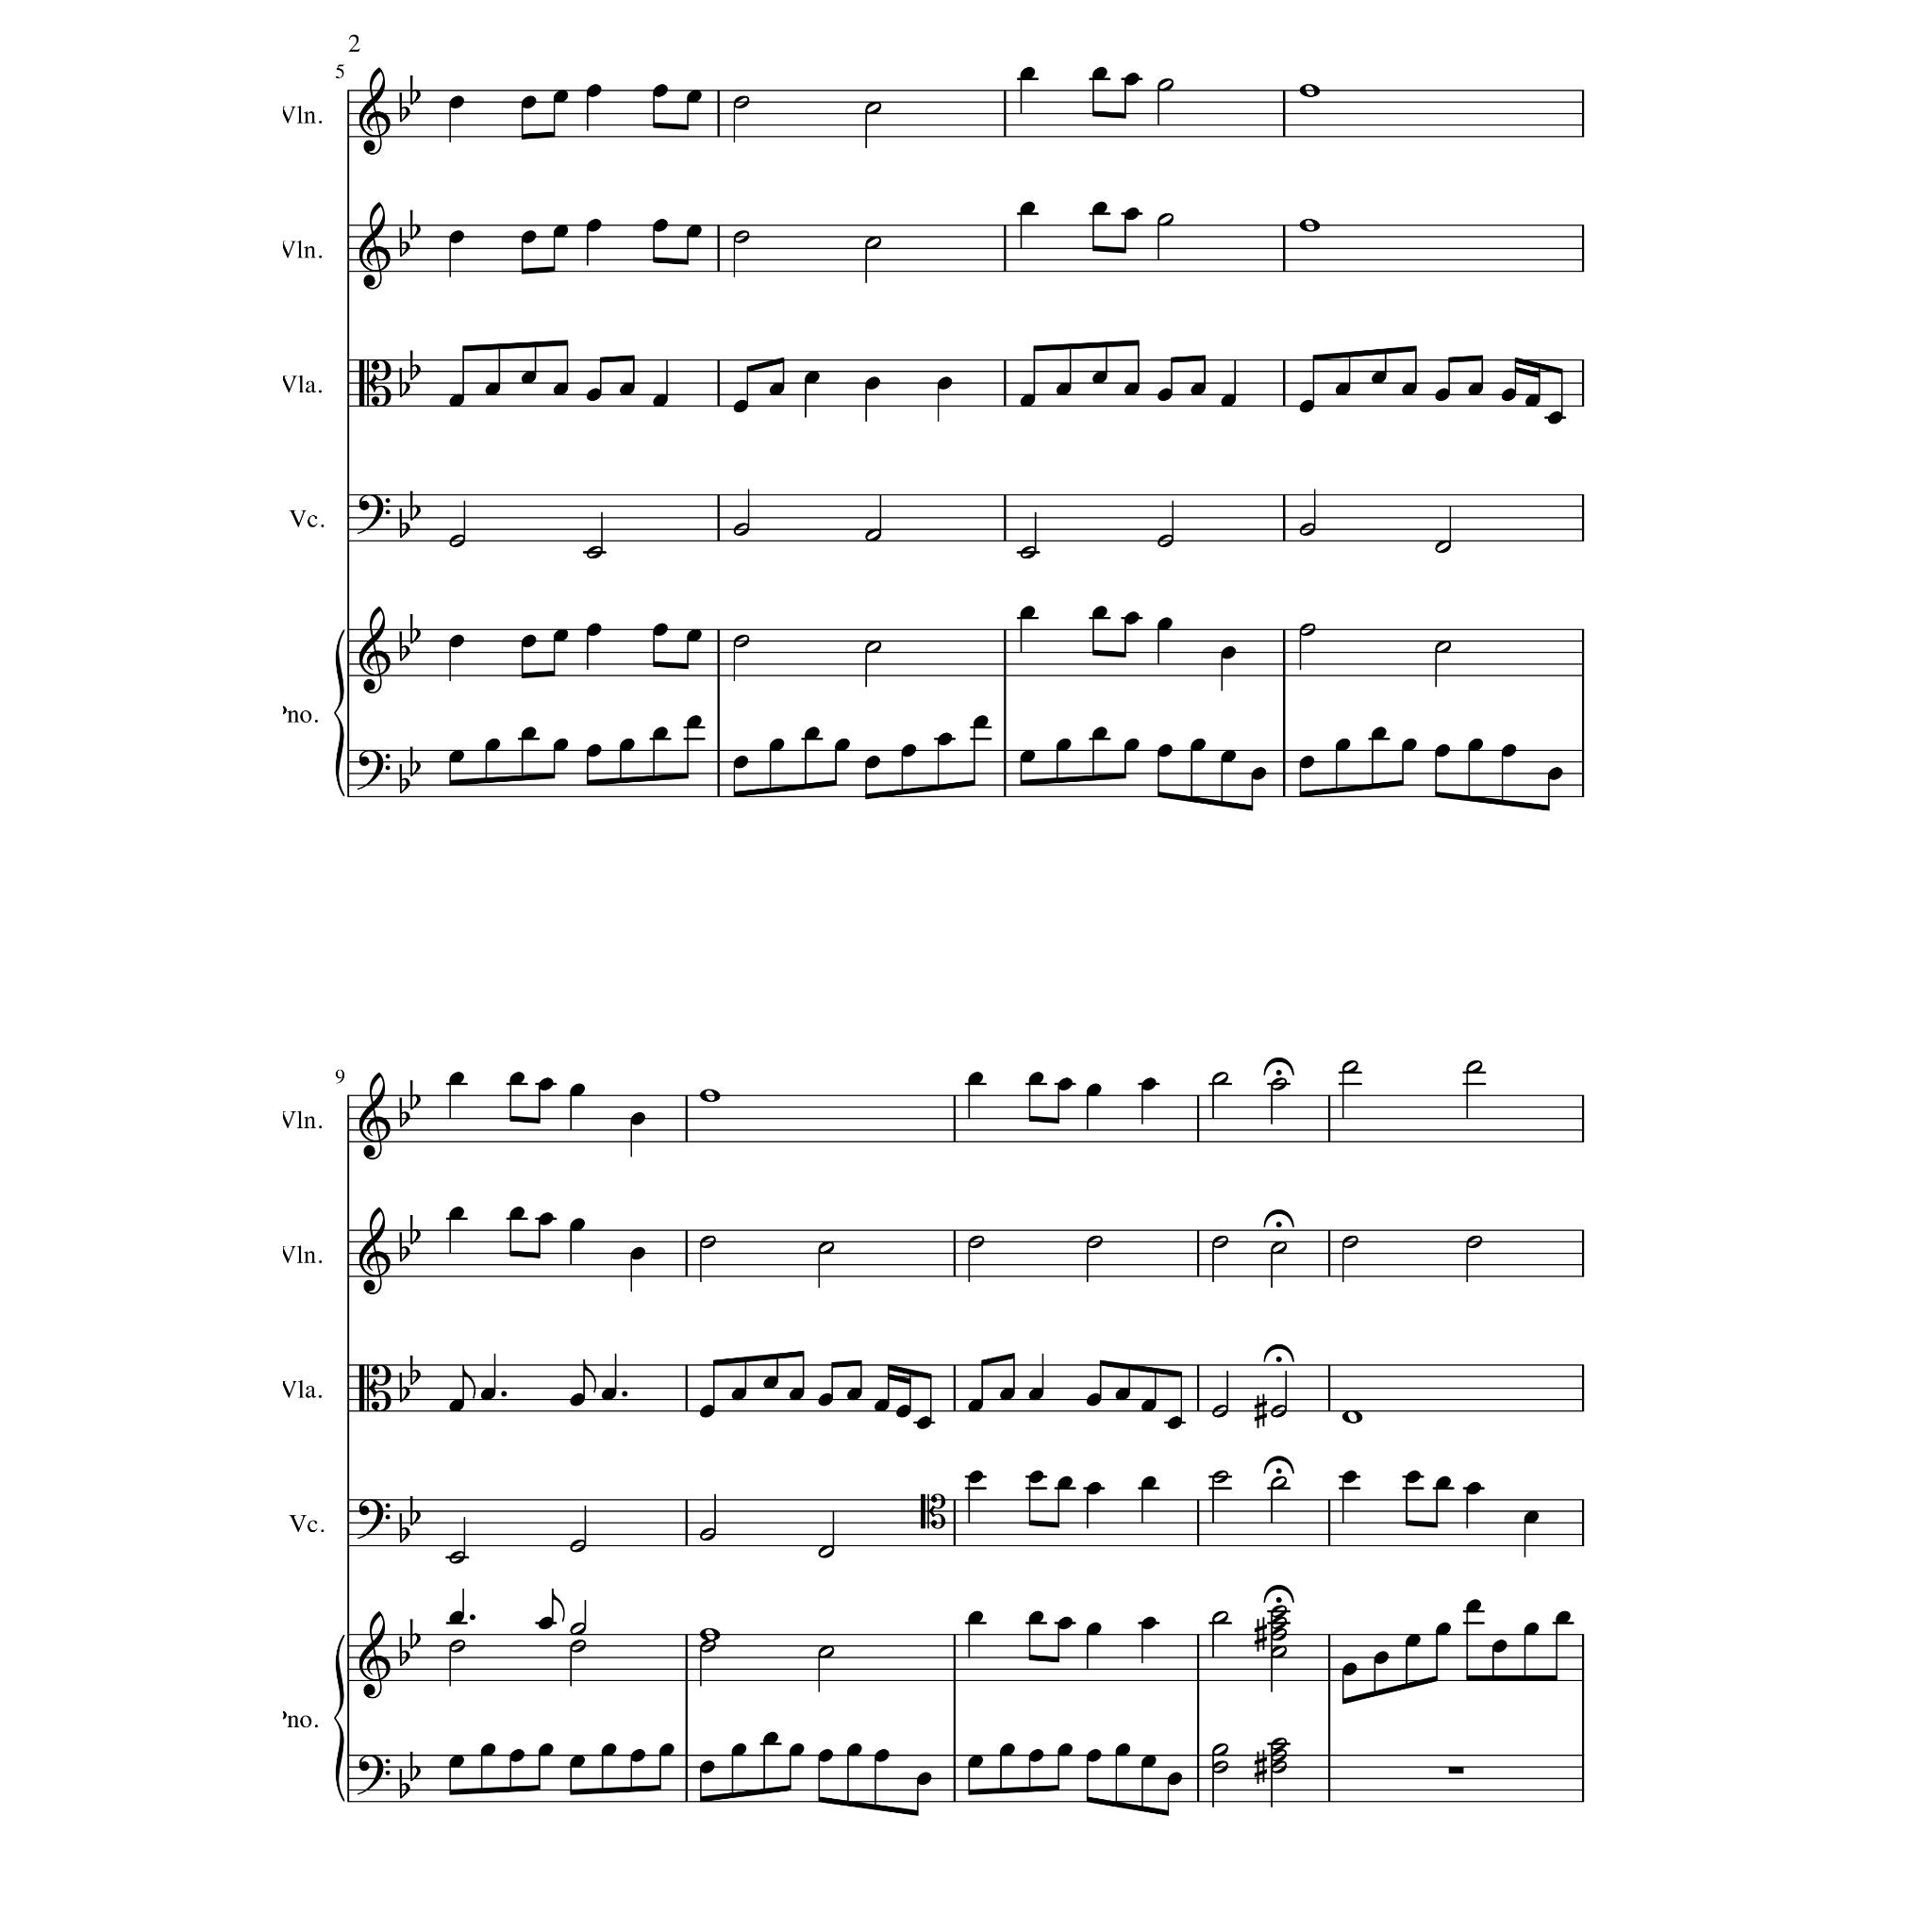brace: (333, 630, 345, 798), (333, 1635, 345, 1801)
fClef: (357, 494, 391, 534), (357, 750, 391, 791), (357, 1499, 391, 1539), (357, 1755, 391, 1796)
flag8thUp: (462, 1366, 476, 1399), (584, 1359, 596, 1394), (552, 1589, 564, 1622)
gClef: (359, 605, 391, 694), (359, 67, 391, 156), (359, 202, 391, 290), (359, 1610, 391, 1698), (359, 1072, 391, 1161), (359, 1207, 391, 1295)
noteheadBlack: (971, 715, 989, 729), (1056, 1476, 1074, 1490), (1056, 1743, 1074, 1757), (1085, 1392, 1102, 1407), (787, 1387, 805, 1401), (787, 1743, 805, 1757), (1157, 743, 1173, 757), (1157, 617, 1173, 632), (1157, 387, 1173, 402), (1251, 766, 1267, 780), (1221, 646, 1237, 660), (1054, 382, 1070, 396), (1123, 73, 1139, 87), (1123, 207, 1139, 221), (1123, 382, 1139, 396), (1123, 738, 1139, 752), (1092, 202, 1108, 216), (1054, 738, 1070, 752), (1546, 410, 1562, 425), (1546, 766, 1562, 780), (1467, 382, 1483, 396), (1467, 738, 1483, 752), (1500, 387, 1516, 402), (1500, 743, 1516, 757), (1299, 755, 1315, 770), (1401, 382, 1417, 396), (1401, 738, 1417, 752), (1435, 387, 1451, 402), (1435, 743, 1451, 757), (1334, 382, 1350, 396), (1334, 738, 1350, 752), (1299, 400, 1315, 414), (586, 83, 602, 97), (586, 387, 602, 402), (552, 90, 568, 104), (552, 225, 568, 239), (552, 382, 568, 396), (552, 738, 568, 752), (619, 382, 635, 396), (619, 738, 635, 752), (653, 83, 669, 97), (586, 623, 602, 637), (586, 743, 602, 757), (449, 96, 465, 110), (449, 230, 465, 244), (485, 382, 501, 396), (485, 738, 501, 752), (520, 96, 536, 110), (520, 230, 536, 244), (653, 623, 669, 637), (835, 738, 851, 752), (865, 377, 881, 391), (865, 755, 881, 770), (768, 382, 784, 396), (768, 738, 784, 752), (936, 377, 952, 391), (936, 732, 952, 747), (1019, 202, 1035, 216), (901, 743, 916, 757), (732, 400, 748, 414), (732, 755, 748, 770), (686, 90, 702, 104), (686, 225, 702, 239), (686, 715, 702, 729), (1166, 1771, 1182, 1785), (1166, 1415, 1182, 1430), (1141, 1476, 1157, 1490), (1028, 1610, 1044, 1624), (1028, 1387, 1044, 1401), (1000, 1743, 1016, 1757), (1000, 1387, 1016, 1401), (1115, 1387, 1131, 1401), (1115, 1743, 1131, 1757), (1491, 1638, 1507, 1652), (1435, 1476, 1451, 1490), (1555, 1610, 1571, 1624), (1373, 1651, 1389, 1665), (570, 1217, 586, 1231), (570, 1392, 586, 1407), (538, 1212, 554, 1226), (538, 1743, 554, 1757), (658, 1743, 674, 1757), (600, 1387, 616, 1401), (600, 1743, 616, 1757), (449, 1610, 465, 1624), (479, 1387, 495, 1401), (479, 1743, 495, 1757), (916, 1415, 932, 1430), (916, 1771, 932, 1785), (846, 1387, 862, 1401), (846, 1743, 862, 1757), (968, 1610, 984, 1624), (731, 1387, 747, 1401), (763, 1375, 778, 1389), (817, 1392, 833, 1407), (731, 1743, 747, 1757), (1056, 1077, 1074, 1090), (1056, 1617, 1074, 1629), (1085, 1085, 1102, 1097), (1085, 1483, 1102, 1495), (1085, 1622, 1102, 1635), (1085, 1750, 1102, 1762), (1341, 1470, 1359, 1483), (1341, 1663, 1359, 1675), (1191, 382, 1205, 396), (1191, 738, 1205, 752), (1221, 395, 1237, 407), (1221, 750, 1237, 763), (1123, 612, 1139, 625), (1092, 67, 1108, 80), (1092, 372, 1108, 384), (1092, 607, 1108, 619), (1092, 727, 1108, 740), (1525, 395, 1541, 407), (1371, 372, 1387, 384), (1371, 727, 1387, 740), (586, 219, 602, 232), (552, 630, 568, 642), (653, 219, 669, 232), (653, 395, 669, 407), (653, 727, 669, 740), (449, 395, 465, 407), (520, 372, 536, 384), (520, 635, 536, 648), (520, 727, 536, 740), (449, 635, 465, 648), (449, 750, 465, 763), (805, 727, 821, 740), (805, 372, 821, 384), (1019, 67, 1035, 80), (1019, 395, 1035, 407), (1019, 607, 1035, 619), (1019, 750, 1035, 763), (686, 630, 702, 642), (1141, 1077, 1157, 1090), (1141, 1399, 1157, 1412), (1141, 1617, 1157, 1629), (1141, 1755, 1157, 1767), (1028, 1072, 1044, 1085), (1028, 1470, 1044, 1483), (1028, 1750, 1044, 1762), (1523, 1511, 1539, 1523), (1523, 1622, 1539, 1635), (1405, 1470, 1421, 1483), (1405, 1635, 1421, 1647), (1435, 1622, 1451, 1635), (570, 1085, 586, 1097), (570, 1755, 586, 1767), (538, 1077, 554, 1090), (538, 1617, 554, 1629), (630, 1750, 646, 1762), (630, 1247, 646, 1260), (699, 1405, 715, 1417), (699, 1760, 715, 1773), (630, 1113, 646, 1125), (449, 1072, 465, 1085), (449, 1207, 465, 1219), (449, 1399, 465, 1412), (449, 1755, 465, 1767), (510, 1072, 525, 1085), (510, 1207, 525, 1219), (510, 1750, 525, 1762), (874, 1399, 890, 1412), (874, 1750, 890, 1762), (895, 1405, 911, 1417), (817, 1750, 833, 1762), (968, 1072, 984, 1085), (968, 1399, 984, 1412), (968, 1470, 984, 1483), (968, 1755, 984, 1767), (763, 1732, 778, 1744), (1467, 1599, 1481, 1612), (1467, 1483, 1481, 1495)
noteheadHalf: (1299, 524, 1316, 538), (1299, 623, 1316, 637), (1435, 640, 1453, 655), (448, 534, 465, 548), (865, 237, 883, 251), (865, 529, 883, 543), (865, 640, 883, 655), (732, 96, 750, 110), (732, 524, 750, 538), (732, 230, 750, 244), (1341, 1060, 1359, 1074), (1341, 1235, 1359, 1249), (570, 1539, 587, 1553), (699, 1235, 717, 1249), (699, 1527, 717, 1541), (968, 1235, 985, 1249), (817, 1545, 835, 1559), (1157, 534, 1173, 548), (1157, 78, 1173, 92), (1212, 1235, 1228, 1249), (1212, 1743, 1228, 1757), (1086, 1235, 1102, 1249), (1467, 1060, 1483, 1074), (1467, 1235, 1483, 1249), (1270, 1476, 1286, 1490), (1270, 1628, 1286, 1642), (1270, 1737, 1286, 1752), (1435, 541, 1453, 554), (586, 547, 603, 559), (865, 103, 883, 115), (1019, 547, 1037, 559), (732, 635, 750, 648), (570, 1622, 587, 1635), (570, 1640, 587, 1652), (699, 1640, 717, 1652), (448, 1552, 465, 1564), (448, 1640, 465, 1652), (817, 1242, 835, 1254), (817, 1645, 835, 1658), (1157, 214, 1173, 226), (1212, 1072, 1228, 1085), (1212, 1470, 1228, 1483), (1212, 1612, 1228, 1624), (1212, 1760, 1228, 1773), (1212, 1405, 1228, 1417), (1270, 1077, 1286, 1090), (1270, 1242, 1286, 1254), (1270, 1405, 1286, 1417), (1270, 1645, 1286, 1658), (1270, 1617, 1286, 1629), (1270, 1605, 1286, 1617), (1270, 1760, 1286, 1773), (1270, 1750, 1286, 1762)
noteheadWhole: (1341, 1410, 1364, 1424), (1299, 85, 1320, 99), (699, 1628, 720, 1642), (1299, 219, 1320, 232), (699, 1090, 720, 1102)
restWhole: (1447, 1767, 1463, 1775)
